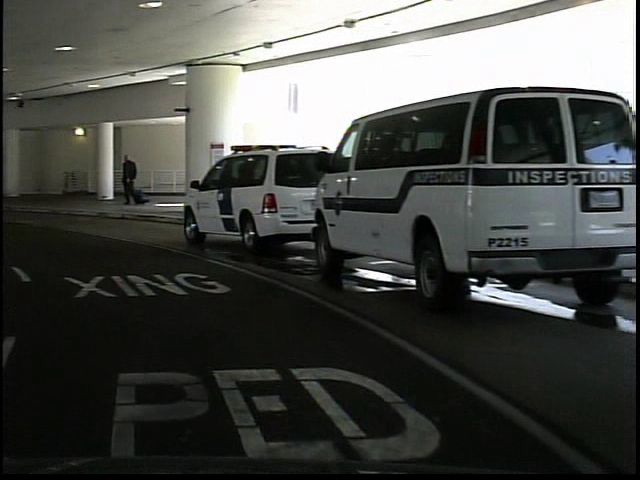person: (116, 150, 140, 209)
